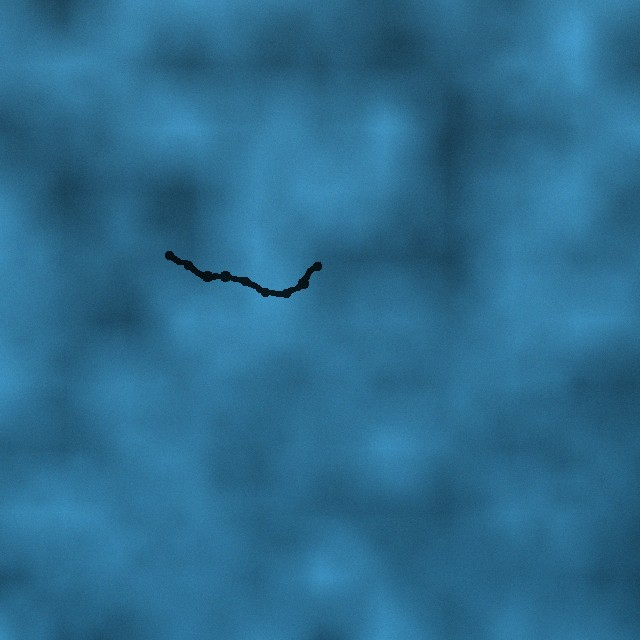crack: (164, 250, 324, 299)
